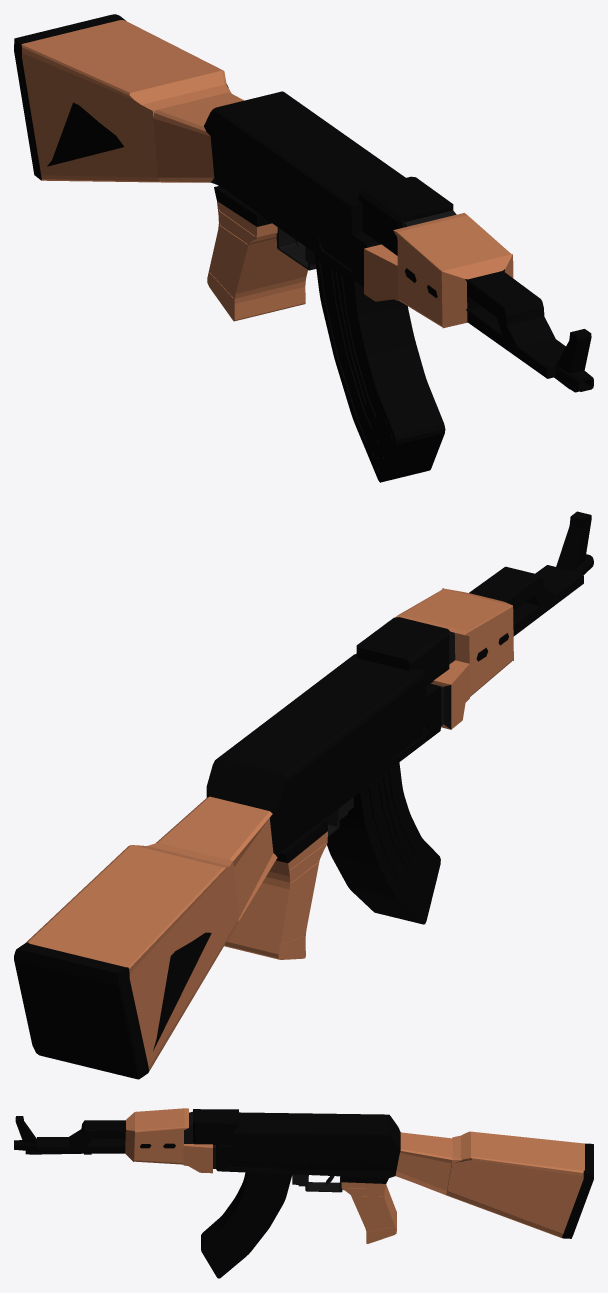
File: Item_AssaultRifle2.fbx
3 views of the same model, one above another, from view 1: azimuth 30°, elevation 25°; view 2: azimuth 150°, elevation 25°; view 3: azimuth 270°, elevation 25° (orthographic). The views are drawn at different scales.
Visible parts, largest first — view 1: Plane.001; view 2: Plane.001; view 3: Plane.001.
Part boxes in pixels (box(x1,y1,x2,y2)): Plane.001: box(14, 14, 593, 482); Plane.001: box(14, 511, 593, 1079); Plane.001: box(14, 1108, 593, 1278).
Size of the model in its own units: 58.37 by 145 by 489.
